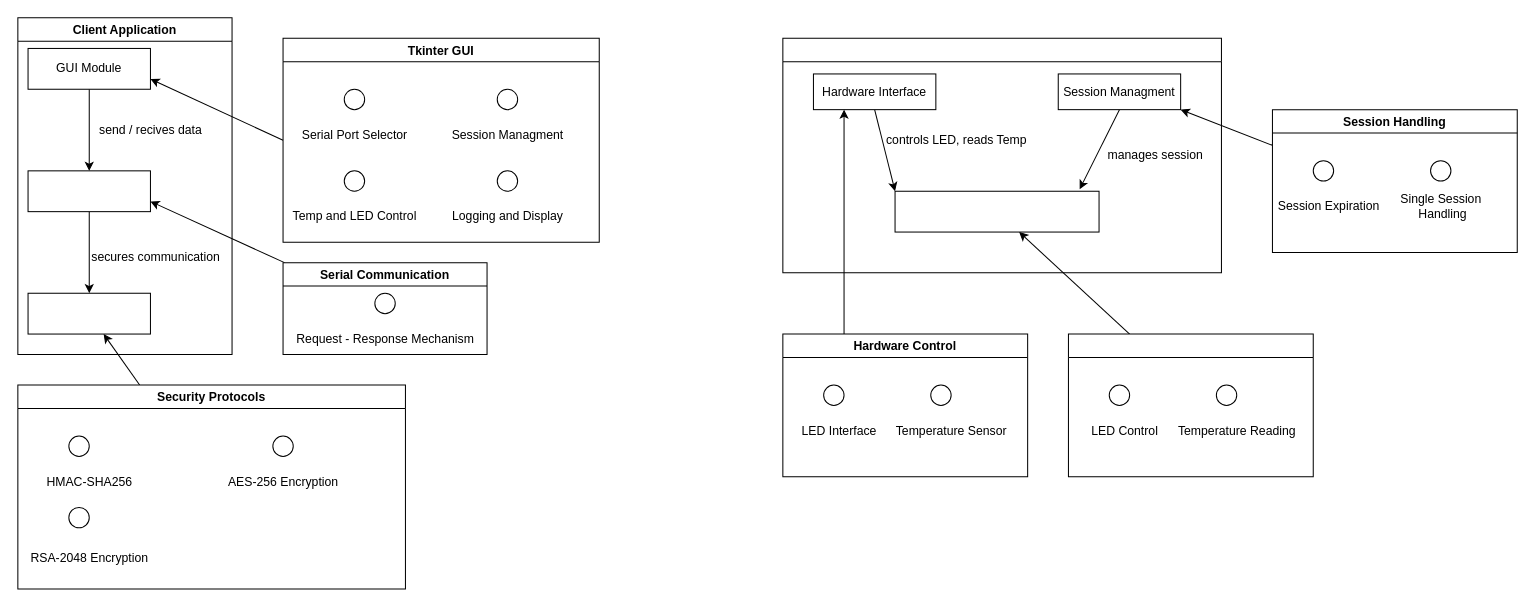
Image size: 1535x607. Some labels were removed from this diagram. The box of each missing label's shape, as (x1, y1, x2, y2) in pixels:
Communication Module: (27, 170, 150, 212)
Request Processing: (1067, 333, 1313, 477)
Response Handling: (894, 190, 1099, 232)
Security Module: (27, 292, 150, 334)
Server: (782, 37, 1221, 273)
